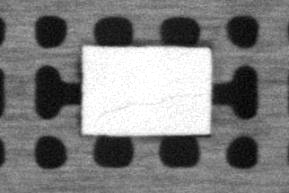DIE_CRACK: (94, 91, 206, 122)
